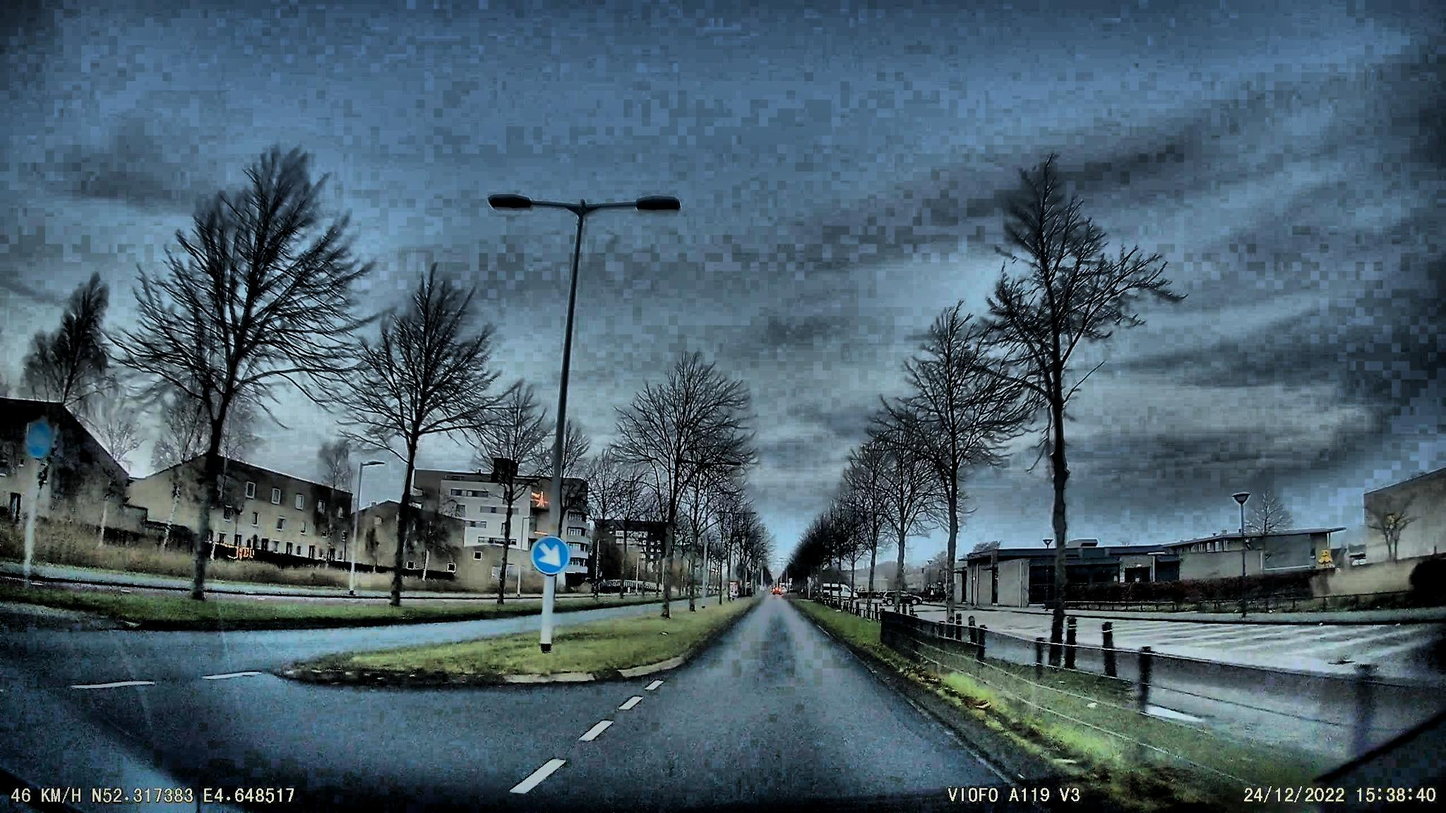Roads: (0, 592, 1112, 813)
